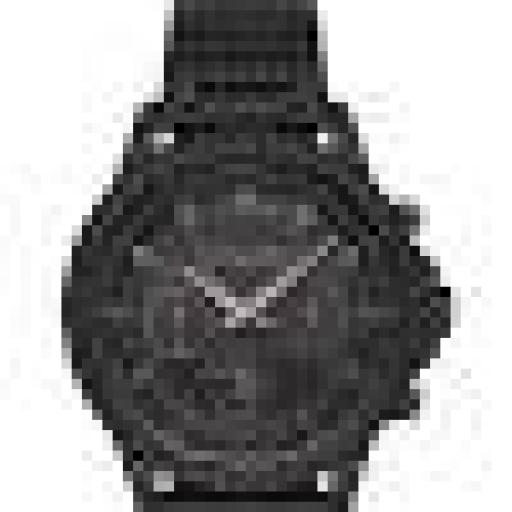KolSaati: (23, 6, 512, 512)
